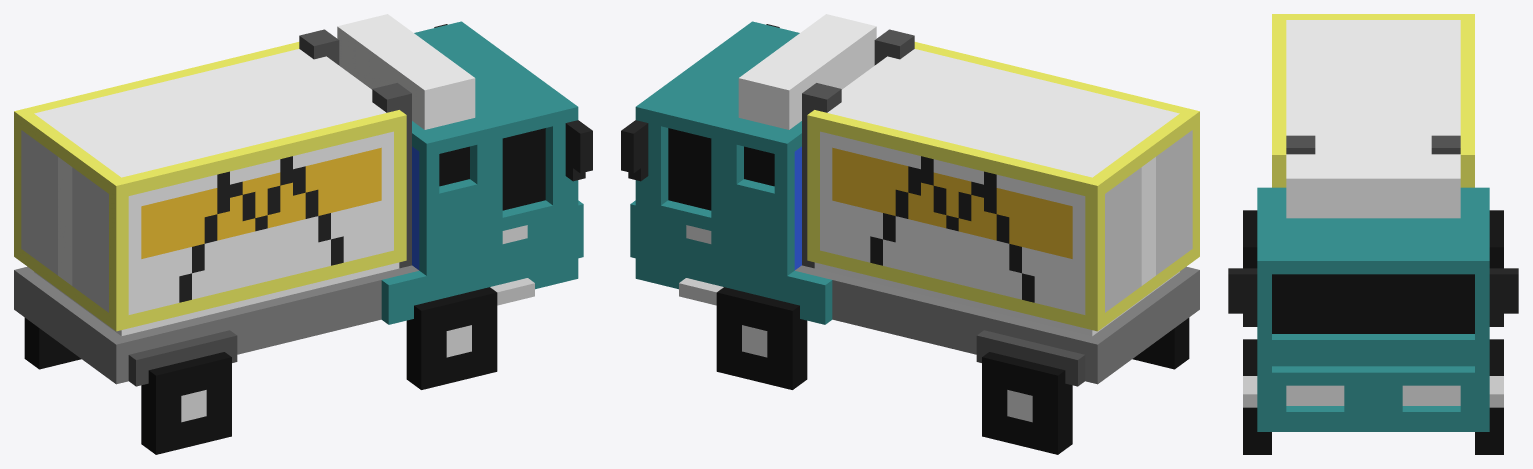
The model's file is caminhaoBau.obj.
The picture shows the model from 3 angles, left to right: view 1: azimuth 30°, elevation 25°; view 2: azimuth 150°, elevation 25°; view 3: azimuth 270°, elevation 25°; orthographic projection.
Size of the model in its own units: 37 by 21 by 20.
1 material, 1 textured.
